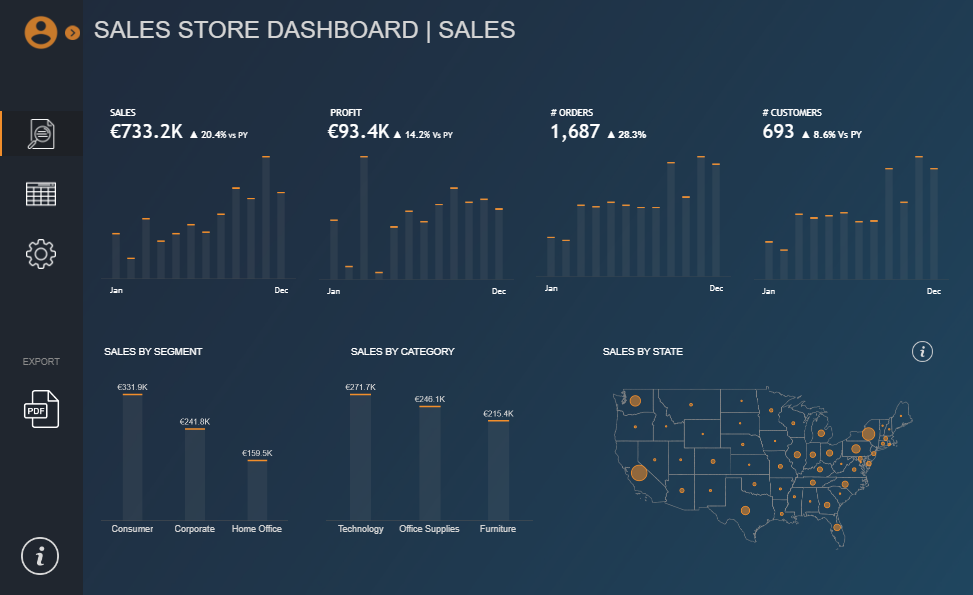

What the dashboard file says about the page in this screenshot:
{"tool":"tableau","page":{"name":"OVER","canvas":[1500,1000],"ordinal":1},"visuals":[{"type":"image","param":"Image/image-1280x720.jpg","box":[0,0,1500,1000]},{"type":"worksheet","title":"LOGO","mark":"Shape","rows":["Calculation_1686879553972932618"],"box":[100,100,87,100]},{"type":"worksheet","title":"SHAPE_OPEN_PAN","mark":"Shape","box":[187,100,23,100]},{"type":"blank","box":[210,100,15,800]},{"type":"text","box":[225,100,1160,93]},{"type":"blank","box":[1385,100,15,800]},{"type":"worksheet","title":"NAME","mark":"Shape","box":[215,111,98,89]},{"type":"blank","box":[313,111,20,89]},{"type":"worksheet","title":"SHAPE_CLOSE_PAN","mark":"Shape","box":[333,111,37,89]},{"type":"blank","box":[225,193,1160,40]},{"type":"blank","box":[100,200,110,55]},{"type":"blank","box":[210,200,160,55]},{"type":"worksheet","title":"Sales","mark":"Bar","rows":["Calculation_2312598452781518858","Calculation_2312598452780478472"],"cols":["Order Date"],"box":[225,233,290,287]},{"type":"worksheet","title":"Profit","mark":"Bar","rows":["Profit","Profit"],"cols":["Order Date"],"box":[515,233,290,287]},{"type":"worksheet","title":"ORDER","mark":"Bar","rows":["Customer Name","Customer Name"],"cols":["Order Date"],"box":[805,233,290,287]},{"type":"worksheet","title":"Customer","mark":"Bar","rows":["cc_cy profit (copy)_2312598452809445402","cc_cy profit (copy)_2312598452809445402"],"cols":["Order Date"],"box":[1095,233,290,287]},{"type":"worksheet","title":"Under_line_ove_static","mark":"Automatic","rows":["Calculation_1686879553983205394"],"box":[100,255,3,60]},{"type":"image","param":"Image/search.png","box":[103,255,107,60]},{"type":"text","box":[210,255,160,60]},{"type":"blank","box":[100,315,110,20]},{"type":"blank","box":[210,315,160,20]},{"type":"worksheet","title":"Shape_open_underline_det","mark":"Shape","box":[110,331,82,72]},{"type":"worksheet","title":"Under_line_det_dynamic","mark":"Automatic","rows":["Calculation_1686879553983205394"],"box":[100,335,3,60]},{"type":"image","param":"Image/table.png","box":[103,335,97,60]},{"type":"text","box":[210,335,160,60]},{"type":"blank","box":[100,395,110,20]},{"type":"blank","box":[210,395,160,20]},{"type":"worksheet","title":"Under_line_set_dynamic","mark":"Automatic","rows":["Calculation_1686879553983205394"],"box":[100,415,3,60]},{"type":"worksheet","title":"Under_line_set_static","mark":"Automatic","rows":["Calculation_1686879553983205394"],"box":[100,415,3,60]},{"type":"image","param":"Image/settings (1).png","box":[103,415,106,60]},{"type":"text","box":[210,415,129,60]},{"type":"worksheet","title":"SHAPE_OPEN_BOX_SETTING_IN_PANEL","mark":"Shape","box":[339,415,31,60]},{"type":"worksheet","title":"SHAPE_OPEN_BOX_SETTING","mark":"Shape","box":[108,419,87,56]},{"type":"blank","box":[208,465,164,5]},{"type":"blank","box":[208,470,164,10]},{"type":"blank","box":[100,475,110,108]},{"type":"blank","box":[210,475,160,425]},{"type":"parameter","param":"[Parameters].[Parameter 3 1]","box":[208,480,164,41]},{"type":"blank","box":[225,520,1160,40]},{"type":"parameter","param":"[Parameters].[Parameter 4]","box":[208,521,164,41]},{"type":"text","box":[1057,551,249,44]},{"type":"text","box":[235,560,167,30]},{"type":"blank","box":[402,560,162,30]},{"type":"text","box":[564,560,184,30]},{"type":"blank","box":[748,560,166,30]},{"type":"text","box":[914,560,471,30]},{"type":"dashboard-object","box":[1316,561,29,28]},{"type":"parameter","param":"[Parameters].[Parameter 6]","box":[208,562,164,59]},{"type":"text","box":[100,583,110,21]},{"type":"blank","box":[225,590,1160,20]},{"type":"dashboard-object","box":[100,604,110,110]},{"type":"worksheet","title":"Sales_segment","mark":"GanttBar","rows":["Calculation_2586473580868665350","Calculation_2859785779402862608"],"cols":["Segment"],"box":[225,610,290,250]},{"type":"worksheet","title":"Sales_categori","mark":"Bar","rows":["Calculation_2859785779402862608","cp_show_hide_py (copy)_1633962260143419393"],"cols":["Category"],"box":[515,610,315,250]},{"type":"worksheet","title":"map","mark":"Multipolygon","box":[830,610,554,250]},{"type":"worksheet","title":"map_city","mark":"Multipolygon","box":[1384,610,1,250]},{"type":"parameter","param":"[Parameters].[Swow_hide_py (copy)_1633962260143497218]","box":[208,621,164,59]},{"type":"text","box":[115,635,93,154]},{"type":"blank","box":[208,680,164,10]},{"type":"worksheet","title":"CLOSE_BOX_SETTING","mark":"Shape","box":[208,690,164,60]},{"type":"blank","box":[100,714,110,186]},{"type":"dashboard-object","box":[126,823,54,50]},{"type":"blank","box":[225,860,1160,40]}]}

Visuals, with their boxes on the page's 1500x1000 design canvas (x1, y1, x2, y2). These are canvas units, not pixel positions in the 973x595 screenshot, which may show the page scaled, cropped or inside an application window:
image: 0,0,1500,1000
"LOGO" worksheet (Shape marks): 100,100,187,200
"SHAPE_OPEN_PAN" worksheet (Shape marks): 187,100,210,200
blank: 210,100,225,900
text: 225,100,1385,193
blank: 1385,100,1400,900
"NAME" worksheet (Shape marks): 215,111,313,200
blank: 313,111,333,200
"SHAPE_CLOSE_PAN" worksheet (Shape marks): 333,111,370,200
blank: 225,193,1385,233
blank: 100,200,210,255
blank: 210,200,370,255
"Sales" worksheet (Bar marks): 225,233,515,520
"Profit" worksheet (Bar marks): 515,233,805,520
"ORDER" worksheet (Bar marks): 805,233,1095,520
"Customer" worksheet (Bar marks): 1095,233,1385,520
"Under_line_ove_static" worksheet: 100,255,103,315
image: 103,255,210,315
text: 210,255,370,315
blank: 100,315,210,335
blank: 210,315,370,335
"Shape_open_underline_det" worksheet (Shape marks): 110,331,192,403
"Under_line_det_dynamic" worksheet: 100,335,103,395
image: 103,335,200,395
text: 210,335,370,395
blank: 100,395,210,415
blank: 210,395,370,415
"Under_line_set_dynamic" worksheet: 100,415,103,475
"Under_line_set_static" worksheet: 100,415,103,475
image: 103,415,209,475
text: 210,415,339,475
"SHAPE_OPEN_BOX_SETTING_IN_PANEL" worksheet (Shape marks): 339,415,370,475
"SHAPE_OPEN_BOX_SETTING" worksheet (Shape marks): 108,419,195,475
blank: 208,465,372,470
blank: 208,470,372,480
blank: 100,475,210,583
blank: 210,475,370,900
parameter: 208,480,372,521
blank: 225,520,1385,560
parameter: 208,521,372,562
text: 1057,551,1306,595
text: 235,560,402,590
blank: 402,560,564,590
text: 564,560,748,590
blank: 748,560,914,590
text: 914,560,1385,590
dashboard-object: 1316,561,1345,589
parameter: 208,562,372,621
text: 100,583,210,604
blank: 225,590,1385,610
dashboard-object: 100,604,210,714
"Sales_segment" worksheet (GanttBar marks): 225,610,515,860
"Sales_categori" worksheet (Bar marks): 515,610,830,860
"map" worksheet (Multipolygon marks): 830,610,1384,860
"map_city" worksheet (Multipolygon marks): 1384,610,1385,860
parameter: 208,621,372,680
text: 115,635,208,789
blank: 208,680,372,690
"CLOSE_BOX_SETTING" worksheet (Shape marks): 208,690,372,750
blank: 100,714,210,900
dashboard-object: 126,823,180,873
blank: 225,860,1385,900
